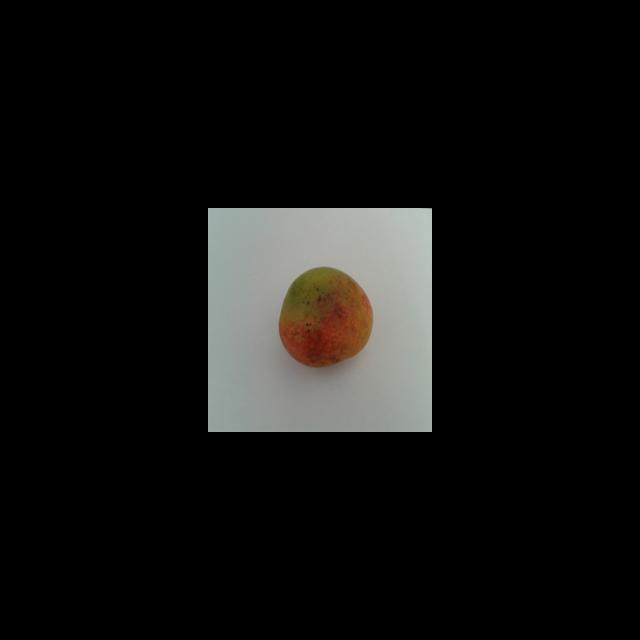Mango: (278, 265, 373, 367)
